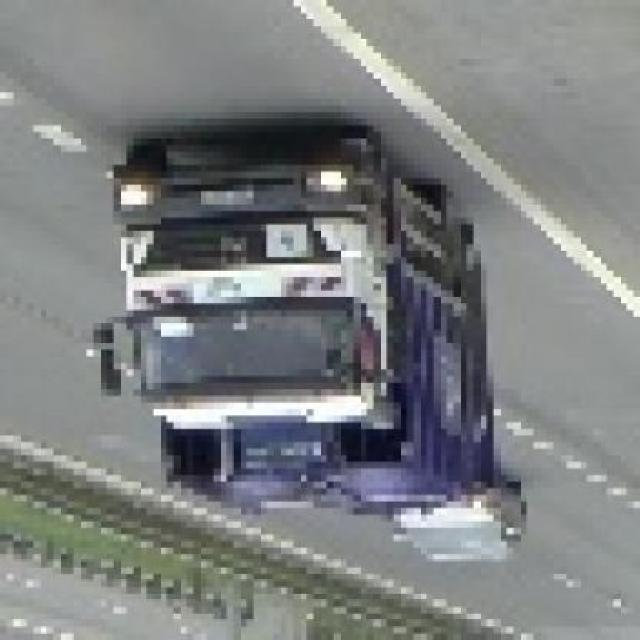truck: (87, 153, 495, 522)
